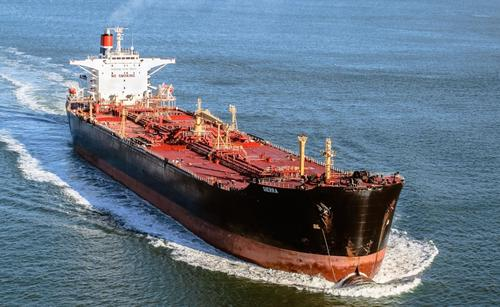Cargoship: (62, 21, 406, 288)
